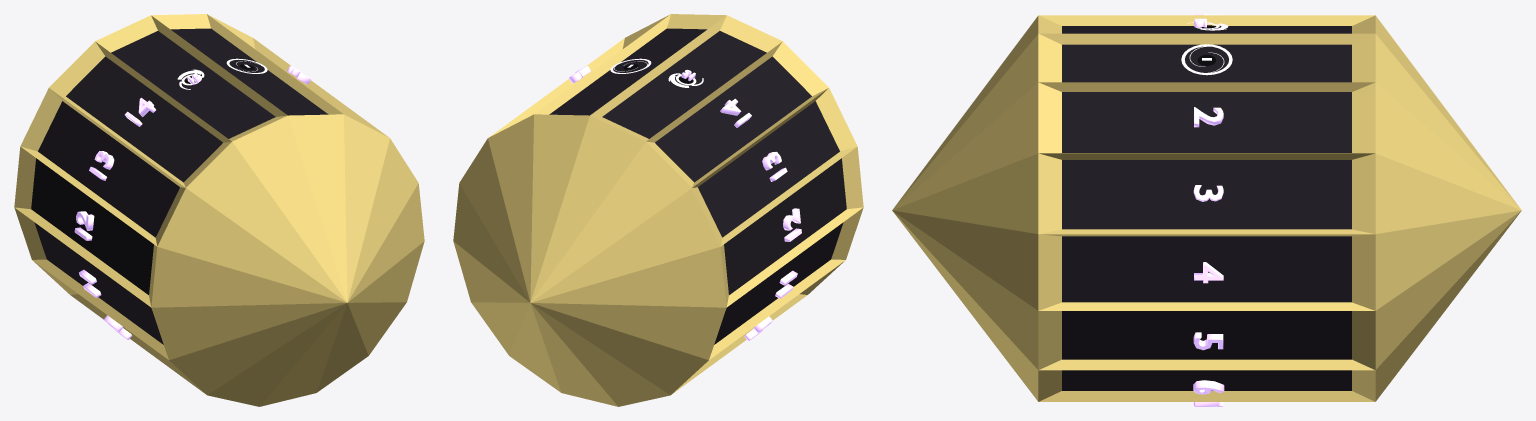
The model's file is d15_black_hole_gold.glb.
3 renders of one model, left to right at view 1: azimuth 30°, elevation 25°; view 2: azimuth 150°, elevation 25°; view 3: azimuth 270°, elevation 25°, orthographic. The views are drawn at different scales.
Parts seen in each view (by area): view 1: D15_BlackHole_Gold; view 2: D15_BlackHole_Gold; view 3: D15_BlackHole_Gold.
Part boxes in pixels (<box>): D15_BlackHole_Gold: <box>14,14,424,406</box>; D15_BlackHole_Gold: <box>453,14,863,406</box>; D15_BlackHole_Gold: <box>892,14,1521,406</box>.
Size of the model in its own units: 4.43 by 4.41 by 7.1.
